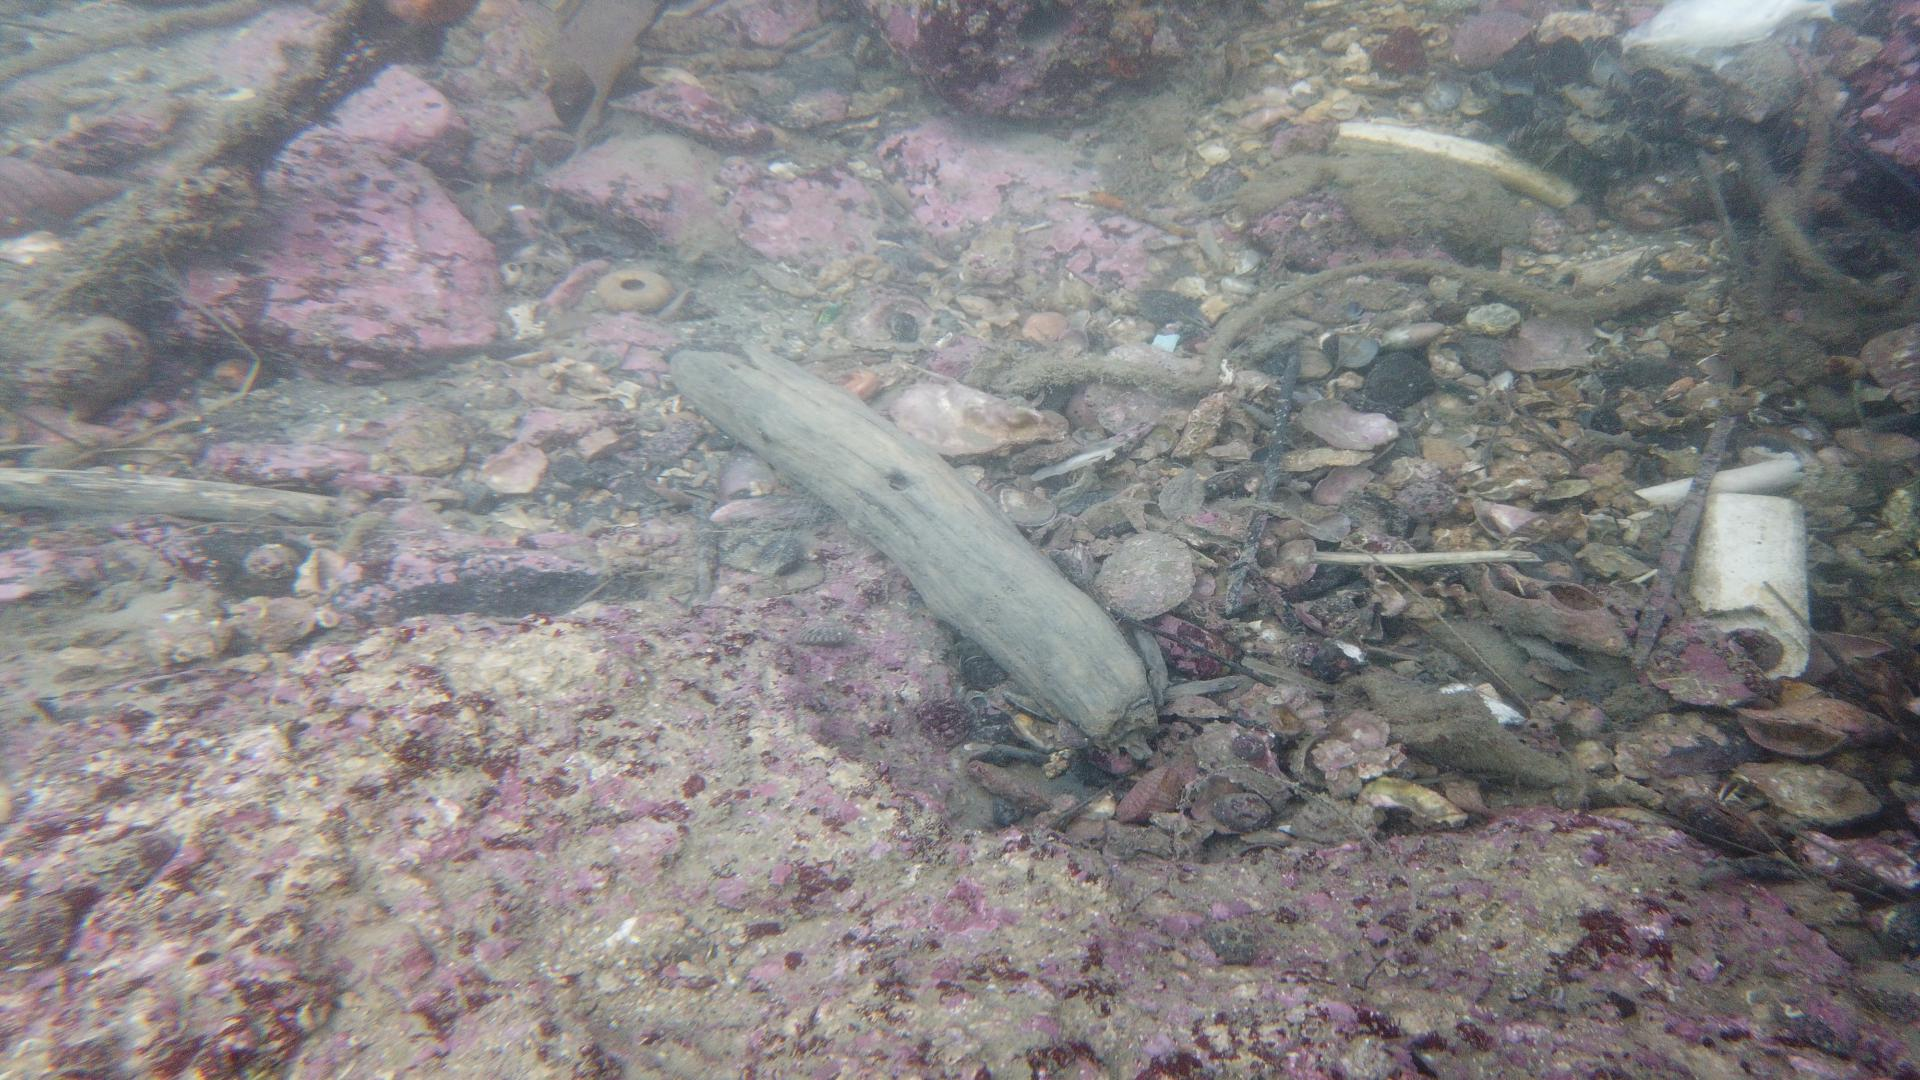rope: (986, 256, 1685, 397)
wood: (665, 338, 1160, 746), (0, 464, 336, 526)
